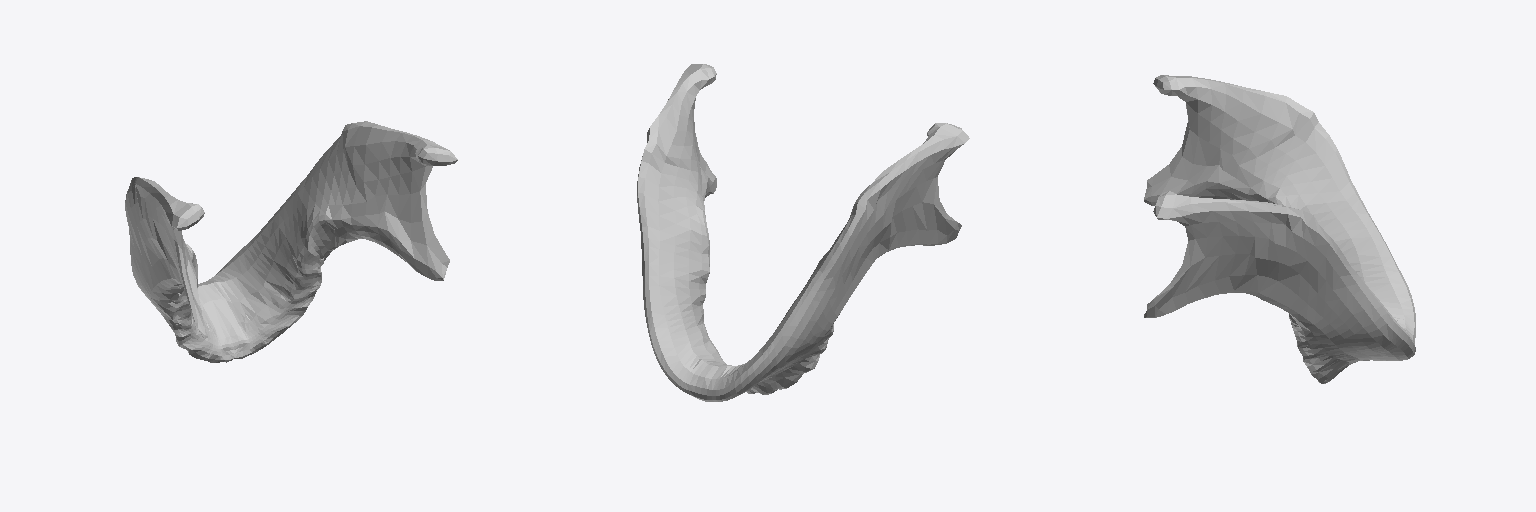
File: Female_Skeletal_Mandible.obj
3 renders of one model, left to right at view 1: azimuth 30°, elevation 25°; view 2: azimuth 150°, elevation 25°; view 3: azimuth 270°, elevation 25°, orthographic.
Parts seen in each view (by area): view 1: Female_Skeletal_Mandible; view 2: Female_Skeletal_Mandible; view 3: Female_Skeletal_Mandible.
Part boxes in pixels (bbox=[...]): Female_Skeletal_Mandible: bbox=[125, 121, 457, 362]; Female_Skeletal_Mandible: bbox=[637, 64, 969, 401]; Female_Skeletal_Mandible: bbox=[1144, 75, 1415, 383].
Size of the model in its own units: 0.9614 by 0.7857 by 0.8057.